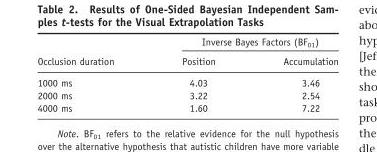table: (36, 37, 337, 113)
table column: (36, 37, 147, 113), (147, 37, 248, 113), (248, 37, 337, 113)
table column header: (36, 37, 337, 72)
table row: (36, 52, 337, 72), (36, 72, 337, 89), (36, 37, 337, 52), (36, 89, 337, 101), (36, 101, 337, 113)
table spanning cell: (36, 37, 147, 72), (147, 37, 337, 52)
